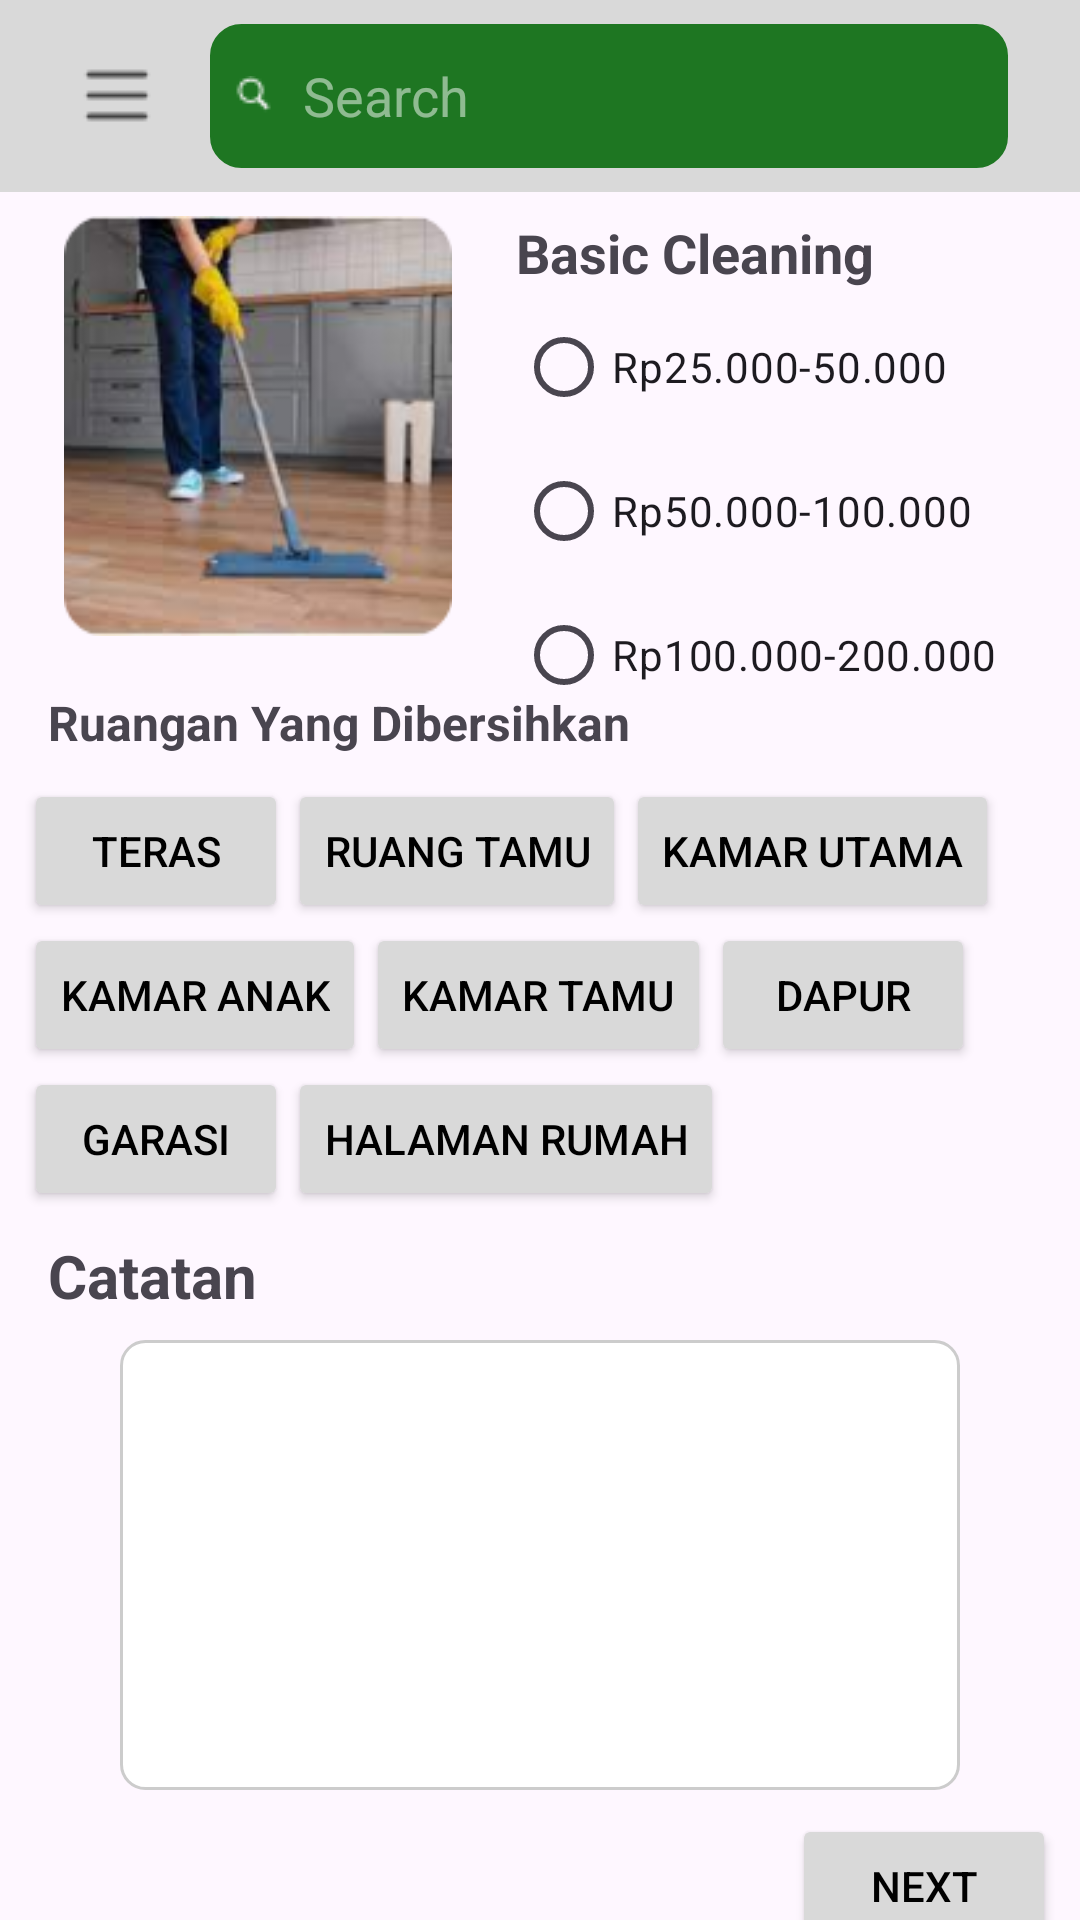

Icon click points for this 1080px x 1920px phone screenshot, format (x=x, y=y):
menu: (x=117, y=95)
